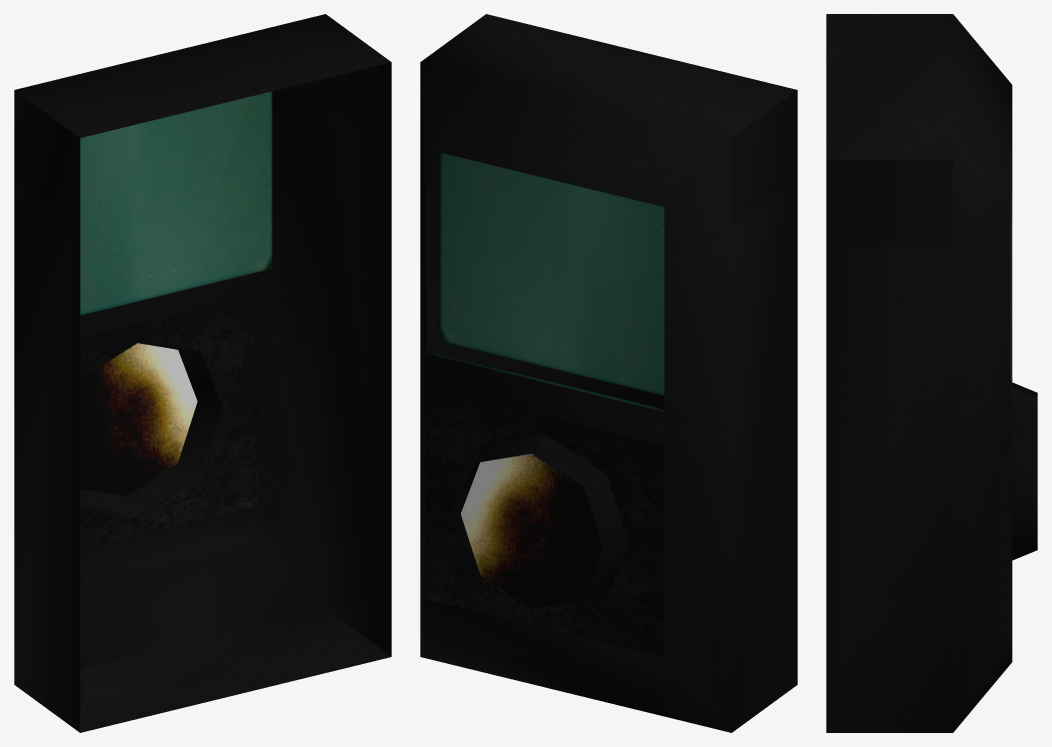
Rendered from DoorButton.fbx.
The picture shows the model from 3 angles, left to right: view 1: azimuth 30°, elevation 25°; view 2: azimuth 150°, elevation 25°; view 3: azimuth 270°, elevation 25°; orthographic projection. The views are drawn at different scales.
Visible parts, largest first — view 1: DoorButton; view 2: DoorButton; view 3: DoorButton.
Part boxes in pixels (x1,y1,x2,y2): DoorButton: (14, 14, 391, 732); DoorButton: (420, 14, 797, 732); DoorButton: (826, 14, 1037, 732).
Bounding box in the file's own units: 0.2764 × 0.5045 × 0.1687.
